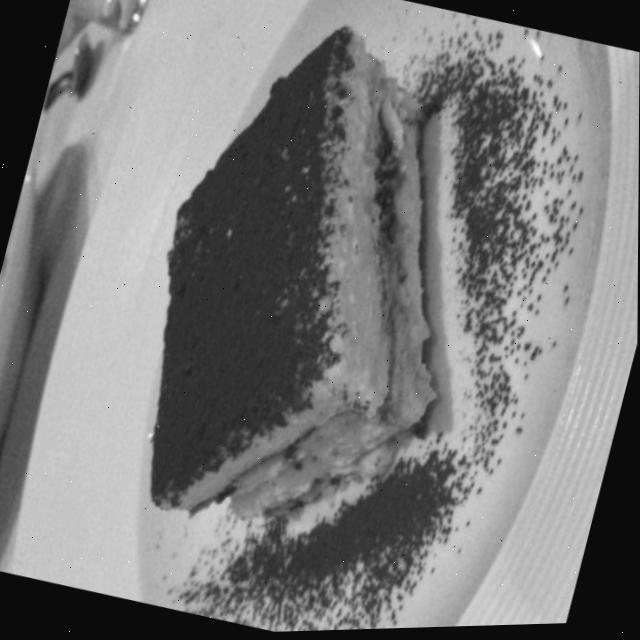蛋糕甜品: (65, 0, 640, 638)
